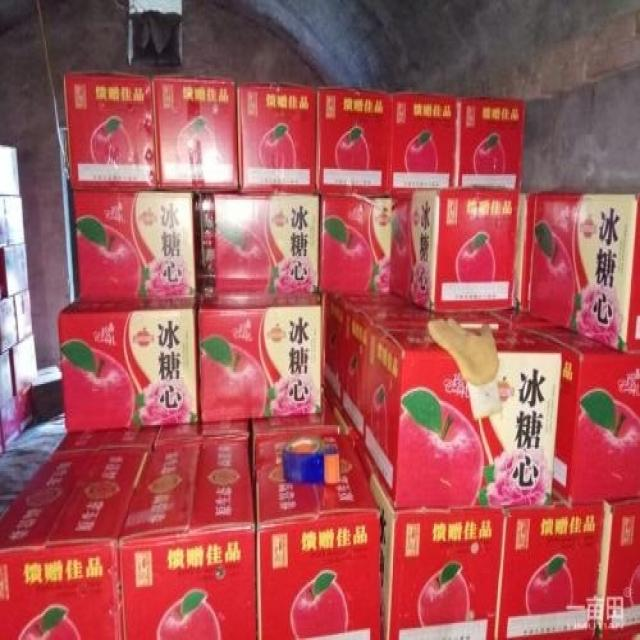box: (360, 328, 562, 512), (349, 430, 509, 640), (0, 451, 152, 640), (116, 442, 257, 640), (253, 432, 381, 640), (518, 326, 640, 507), (339, 305, 503, 437), (58, 300, 201, 433), (527, 193, 640, 355), (497, 495, 608, 640), (197, 300, 323, 427), (390, 189, 517, 314), (72, 189, 196, 302), (193, 193, 323, 300), (323, 290, 413, 411), (64, 72, 157, 189), (152, 73, 238, 191), (236, 82, 317, 193), (316, 85, 393, 198), (250, 394, 343, 481), (390, 90, 457, 198), (320, 198, 392, 294), (457, 97, 526, 195), (595, 498, 640, 640), (49, 428, 161, 456), (513, 195, 536, 314), (0, 379, 35, 452), (152, 423, 250, 449), (0, 242, 28, 297), (12, 333, 37, 394), (0, 195, 26, 249), (493, 309, 553, 331), (0, 295, 19, 353), (14, 288, 33, 345), (0, 346, 17, 408), (0, 143, 20, 195), (0, 406, 4, 454)
